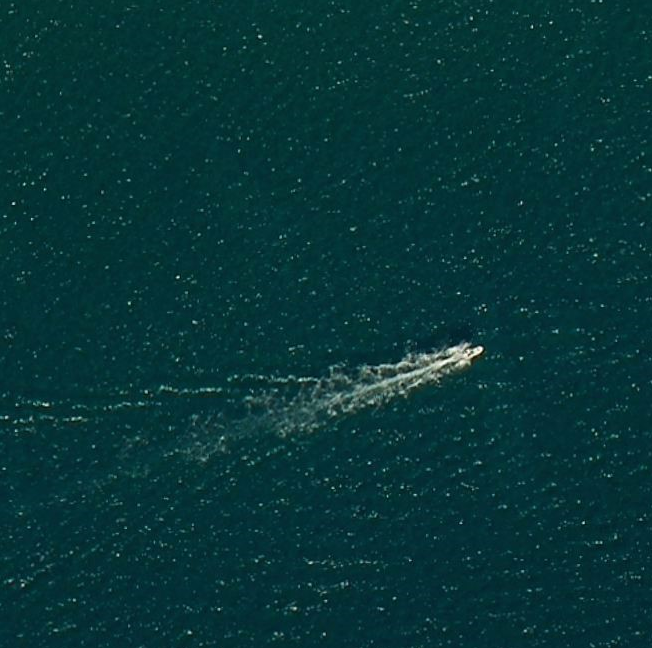ship: (452, 342, 494, 365)
